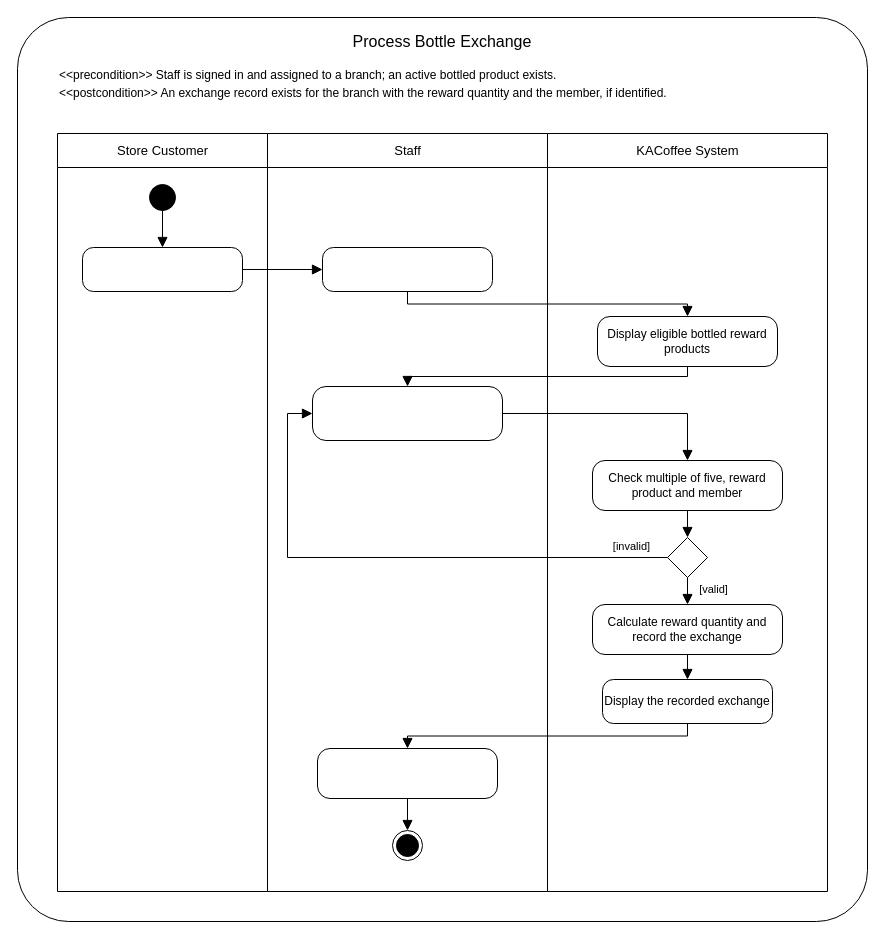
The diagram is 885 pixels wide and 939 high, and some of its shapes have lost their labels. Here are the shapes that lost their labels. From the top down, the centre of each, then its label:
the point at 162,269: Hand over the returned bottles
the point at 407,269: Open the bottle exchange screen
the point at 407,413: Enter bottles, reward product and optional phone; submit
the point at 407,773: Hand the reward products to the customer
